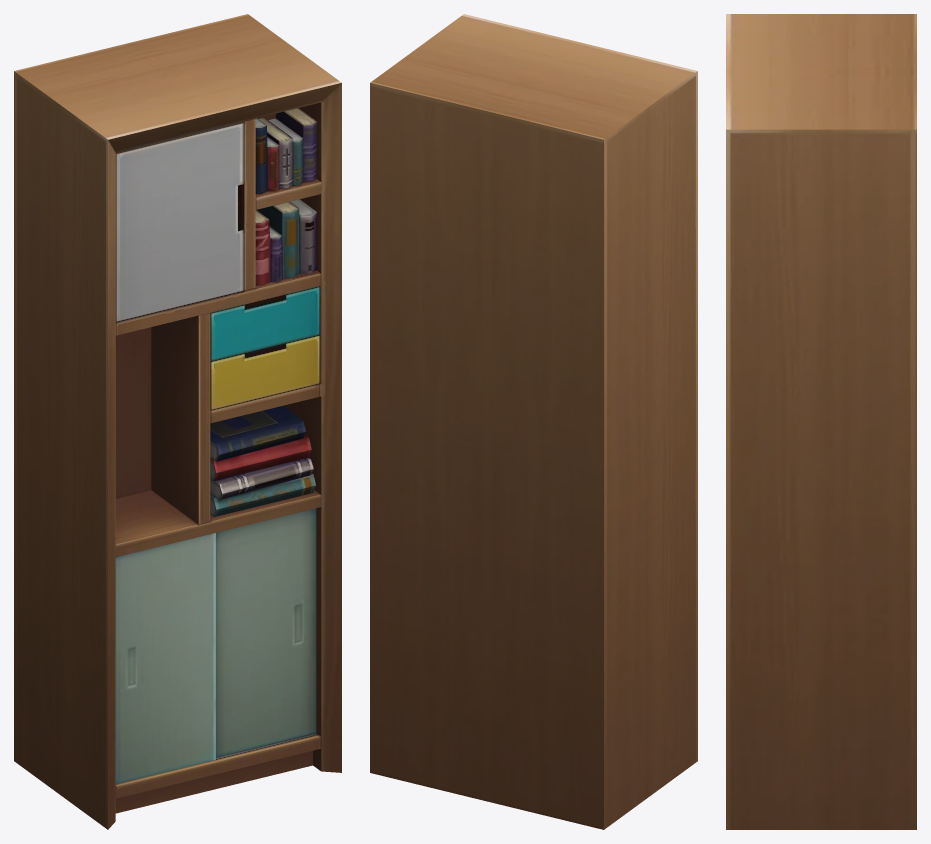
Rendered from tiny_power_tower_bookcase.glb.
3 renders of one model, left to right at view 1: azimuth 30°, elevation 25°; view 2: azimuth 150°, elevation 25°; view 3: azimuth 270°, elevation 25°, orthographic.
Visible parts, largest first — view 1: Object_94, Object_96; view 2: Object_94; view 3: Object_94.
Boxes of the visible parts, x1,y1,x2,y2 form: Object_94: (14,14,341,829); Object_96: (115,508,316,783); Object_94: (370,14,697,829); Object_94: (726,14,916,829).
Size of the model in its own units: 1.24 by 3.5 by 0.8629.
Materials: 2 (2 with a texture image).
